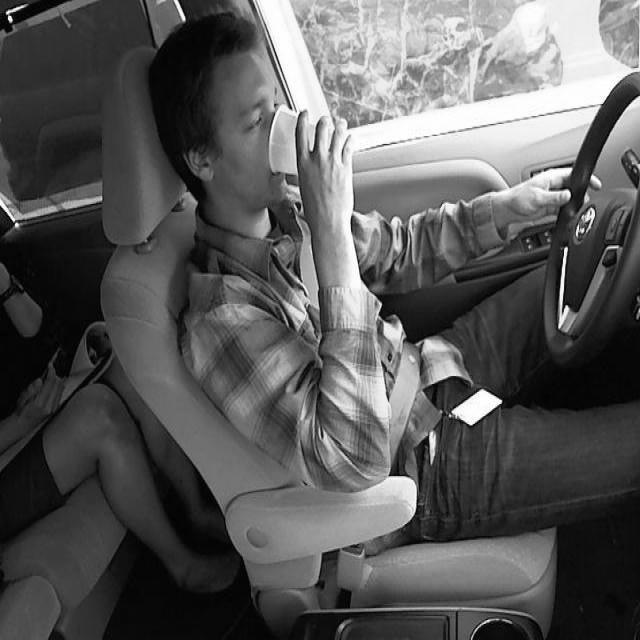Drinking: (267, 104, 355, 175)
